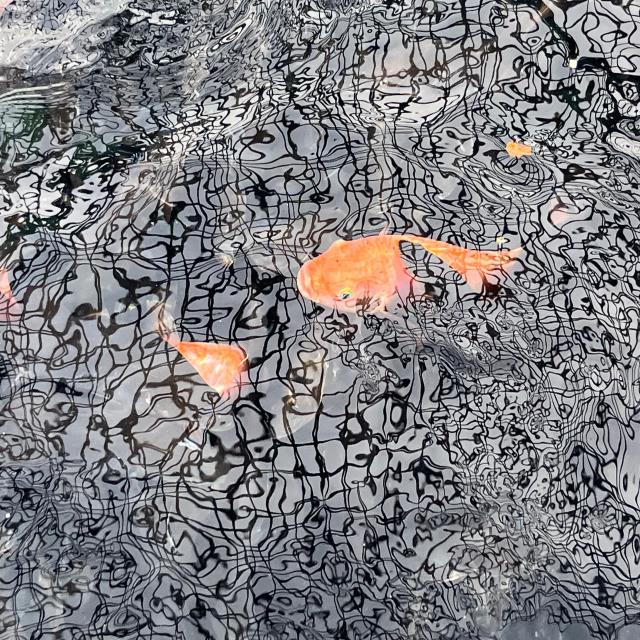ikan: (280, 201, 522, 342)
